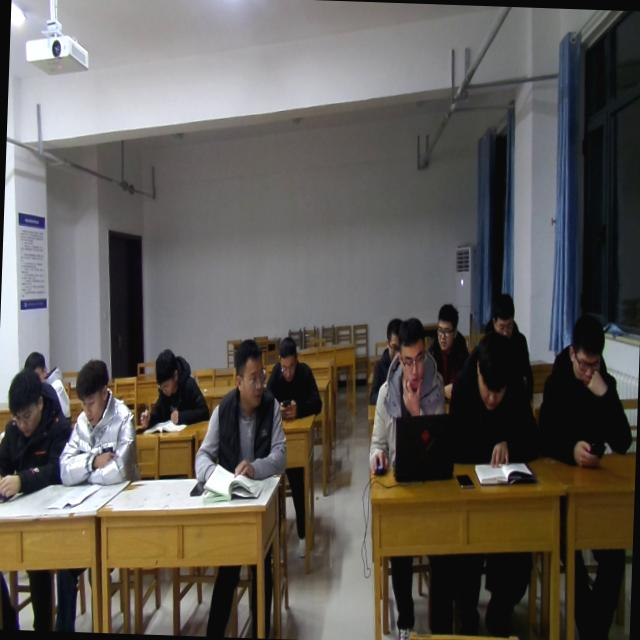down: (3, 365, 48, 443), (564, 310, 610, 385), (472, 336, 517, 408), (72, 352, 110, 429), (398, 316, 429, 388), (152, 345, 182, 400), (489, 288, 517, 340), (272, 331, 298, 383), (434, 299, 460, 351)
lookup: (21, 349, 52, 386), (381, 315, 404, 360)
sit: (534, 310, 635, 470), (191, 338, 290, 492), (368, 316, 449, 480), (442, 336, 533, 473), (59, 356, 140, 491), (0, 365, 68, 507), (140, 349, 212, 429), (264, 336, 324, 420), (20, 352, 74, 440), (480, 289, 536, 372), (427, 303, 472, 402), (369, 316, 401, 408)
